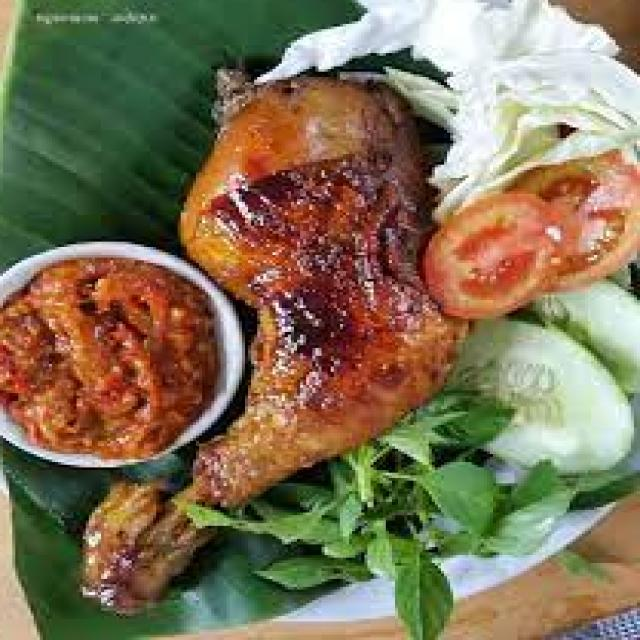ayam bakar: (83, 61, 475, 616)
